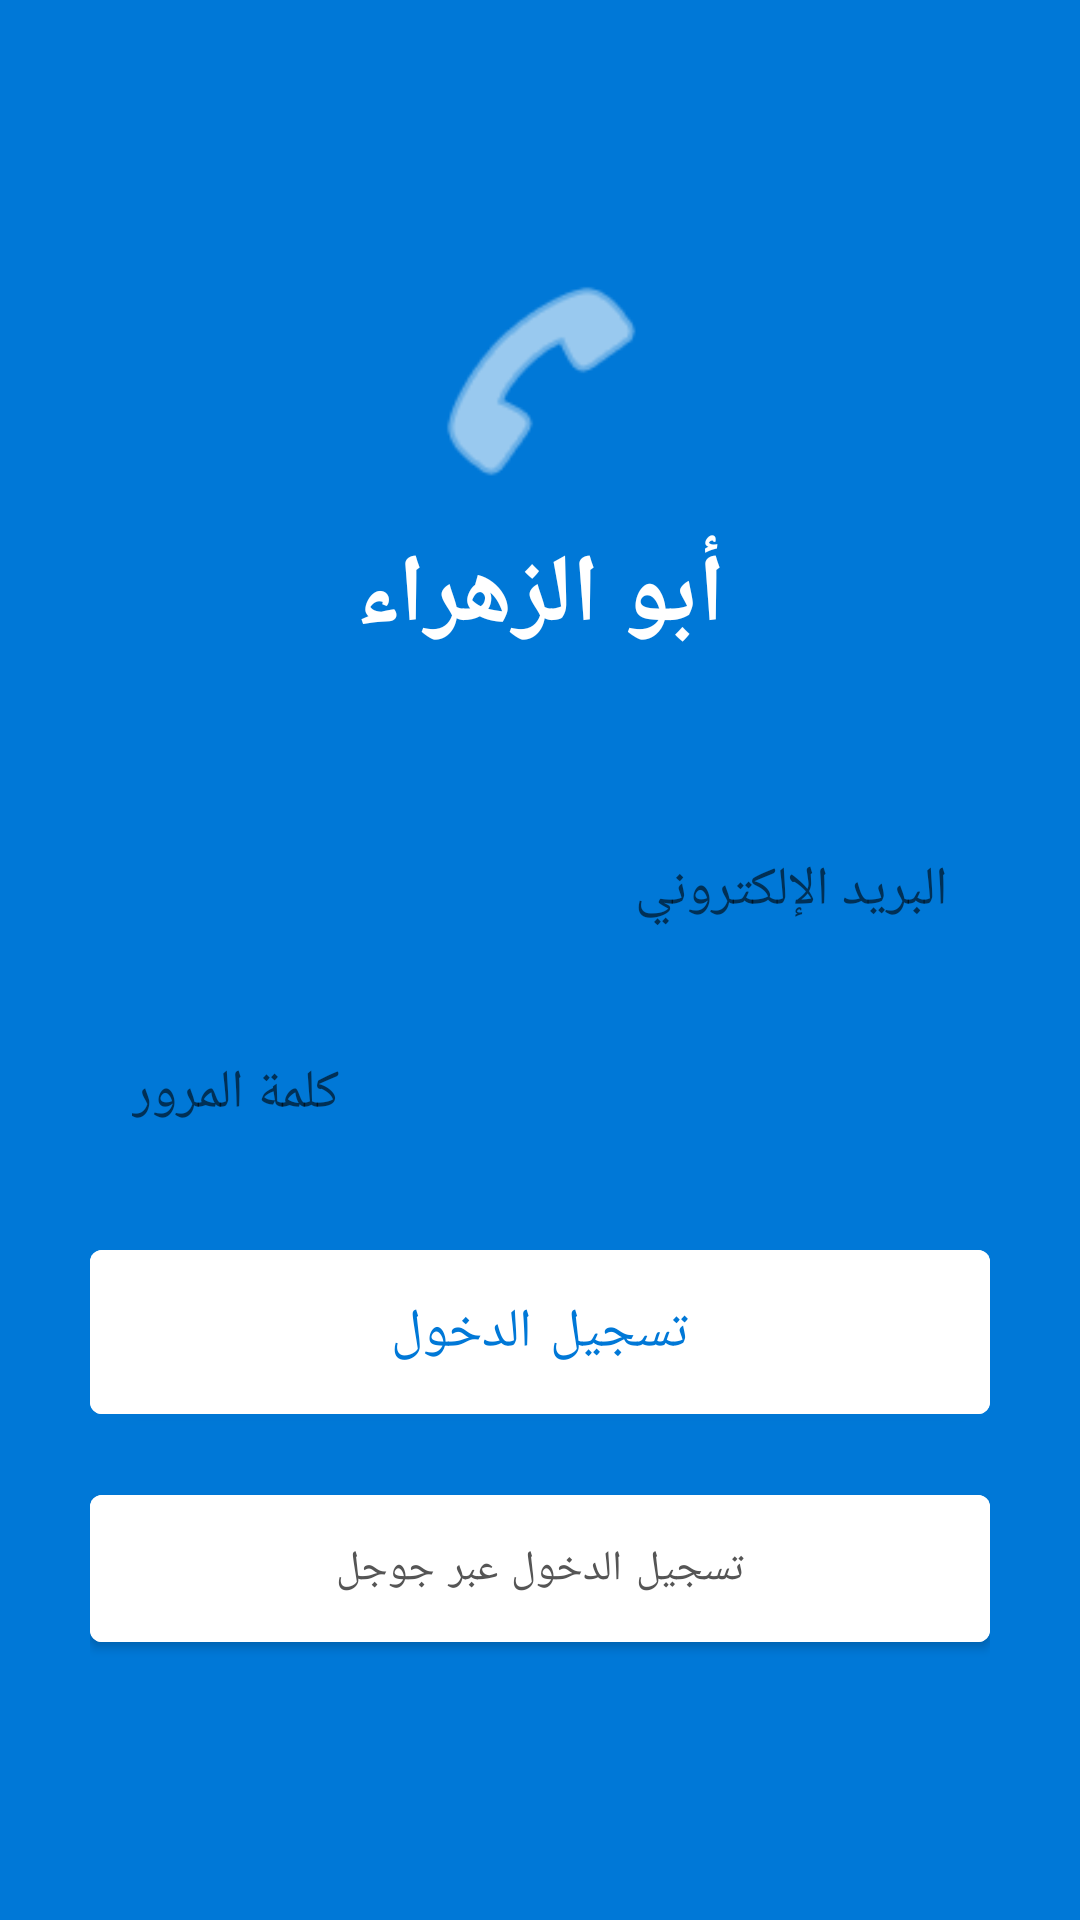

Icons on this 1080 × 1920 Android screen, each with the point to tap as point (x, y):
call: point (541, 381)
